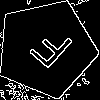F: (21, 24, 76, 78)
